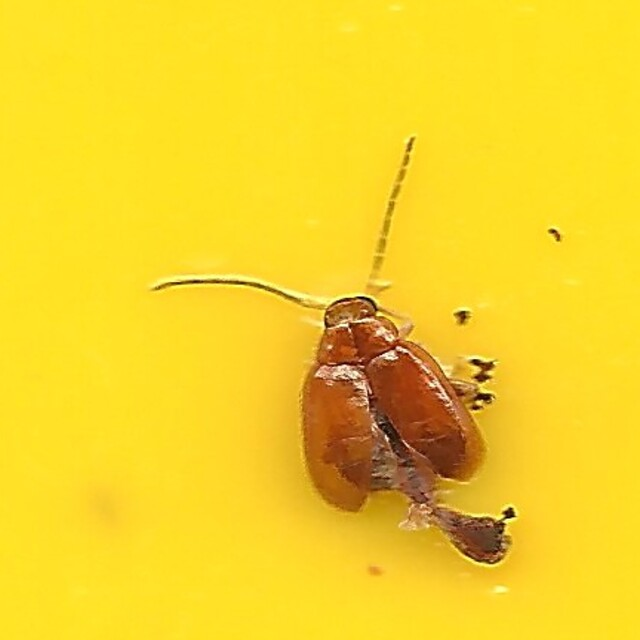Coleoptera: (148, 131, 492, 509)
